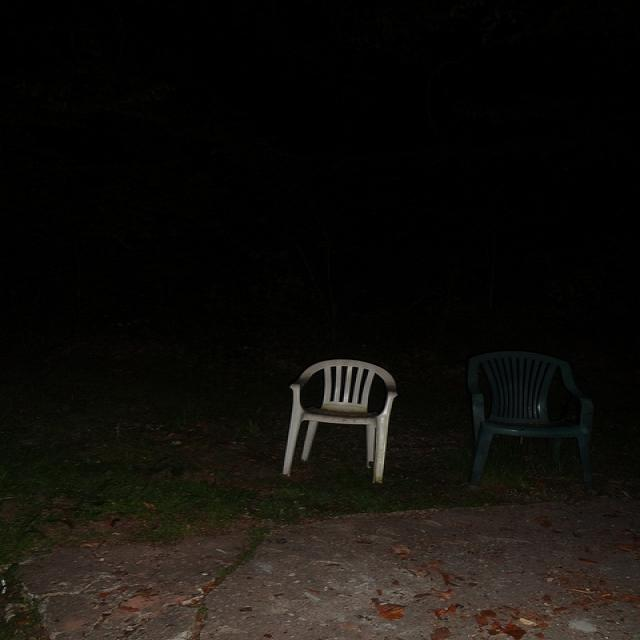chair: (431, 328, 604, 497), (269, 324, 408, 493)
